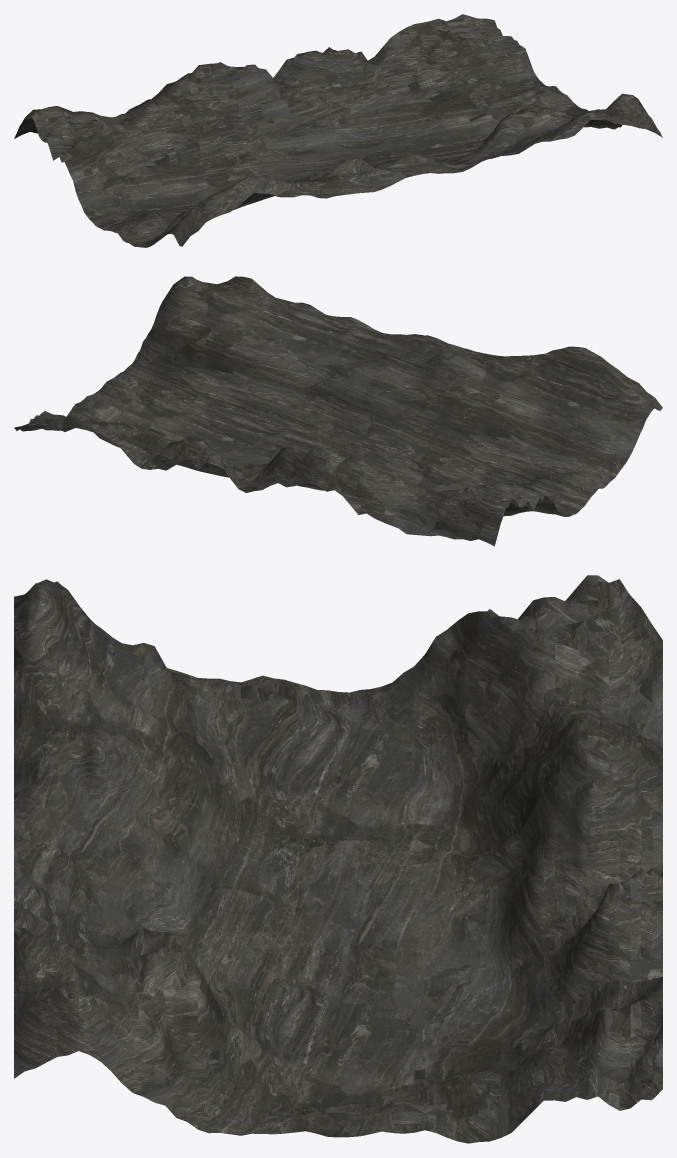
File: mountain.fbx
3 views of the same model, one above another, from view 1: azimuth 30°, elevation 25°; view 2: azimuth 150°, elevation 25°; view 3: azimuth 270°, elevation 25° (orthographic). The views are drawn at different scales.
Visible parts, largest first — view 1: pPlane1; view 2: pPlane1; view 3: pPlane1.
Part boxes in pixels (x1,y1,x2,y2): pPlane1: (14,14,662,247); pPlane1: (14,276,662,546); pPlane1: (14,575,662,1143).
Bounding box in the file's own units: 12200 × 2393 × 7400.
1 material, 1 textured.
